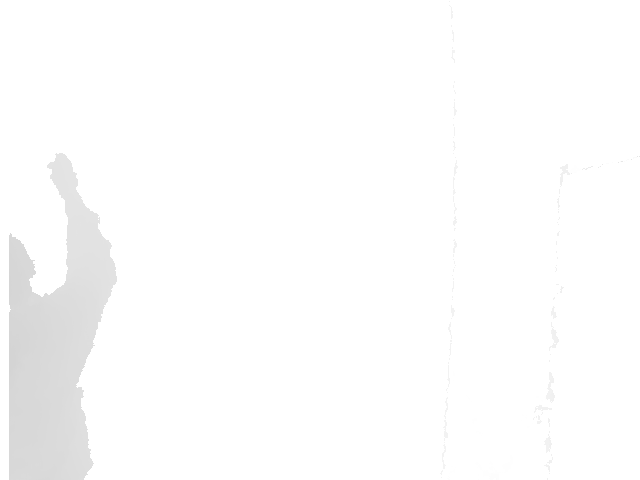hand: (46, 151, 79, 191)
head: (8, 235, 38, 293)
person: (8, 151, 119, 480)
